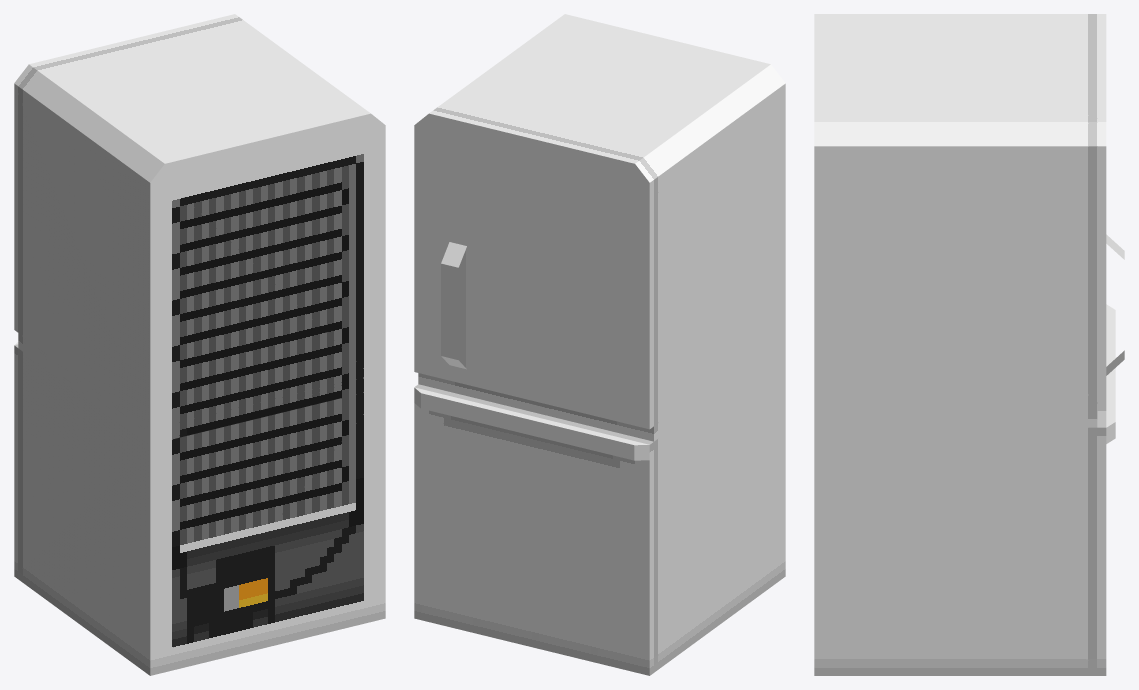
Rendered from fridge.gltf.
3 renders of one model, left to right at view 1: azimuth 30°, elevation 25°; view 2: azimuth 150°, elevation 25°; view 3: azimuth 270°, elevation 25°, orthographic. The views are drawn at different scales.
Visible parts, largest first — view 1: cube; view 2: cube; view 3: cube.
Boxes of the visible parts, x1,y1,x2,y2 form: cube: (14,14,385,675); cube: (414,14,785,675); cube: (814,14,1124,675).
Size of the model in its own units: 1 by 2.06 by 1.06.
1 material, 1 textured.
